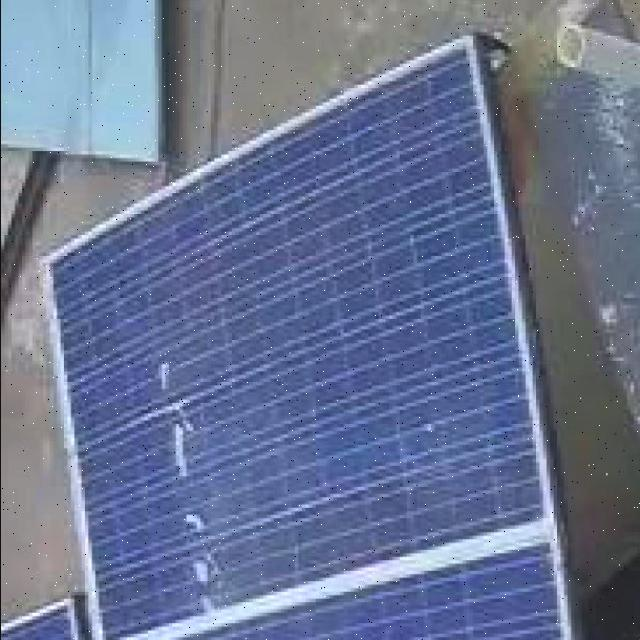Anomaly Solar Panel: (0, 44, 592, 640)
Snow: (145, 357, 204, 482), (174, 507, 232, 616)
